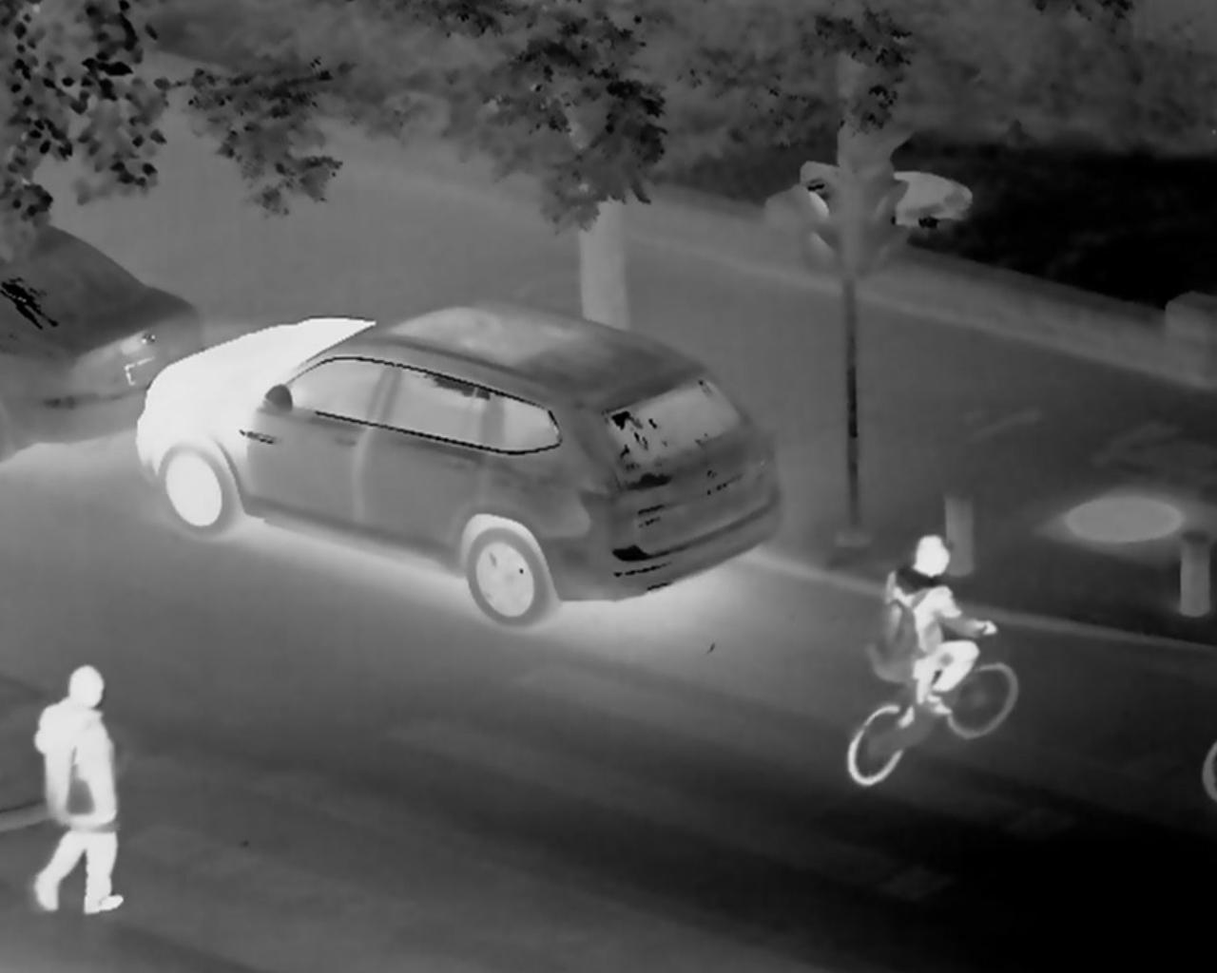person: (852, 515, 1013, 770), (33, 635, 126, 932)
